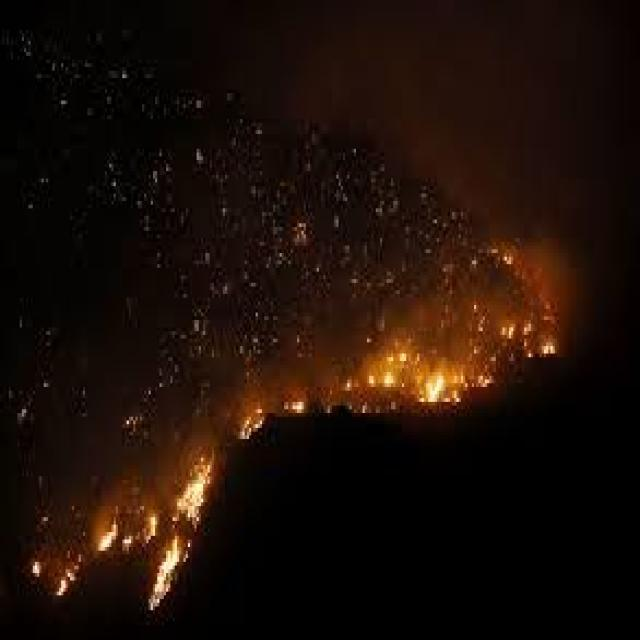Fire: (0, 192, 587, 609)
